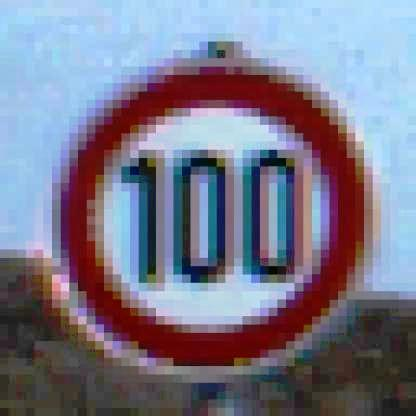Speed Limit -100-: (50, 58, 384, 381)
